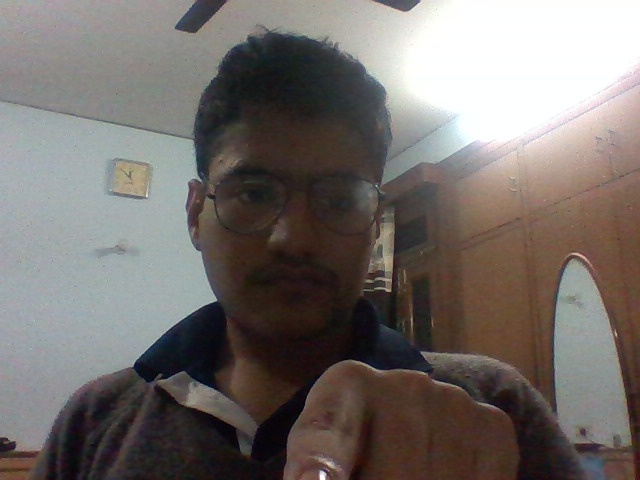You: (255, 341, 559, 480)
